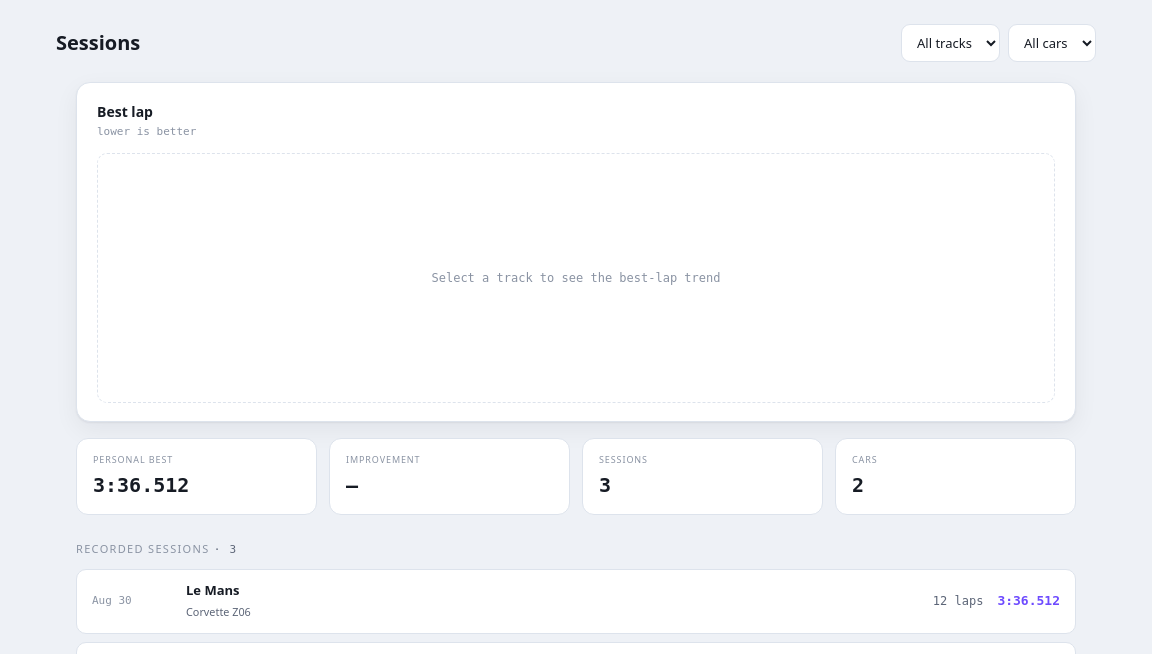
Test: SessionsScreen › renders the trend chart once a specific track is chosen
Select "Le Mans" in the dropdown named "track": [950, 43] box x1=901 y1=24 x2=1000 y2=62
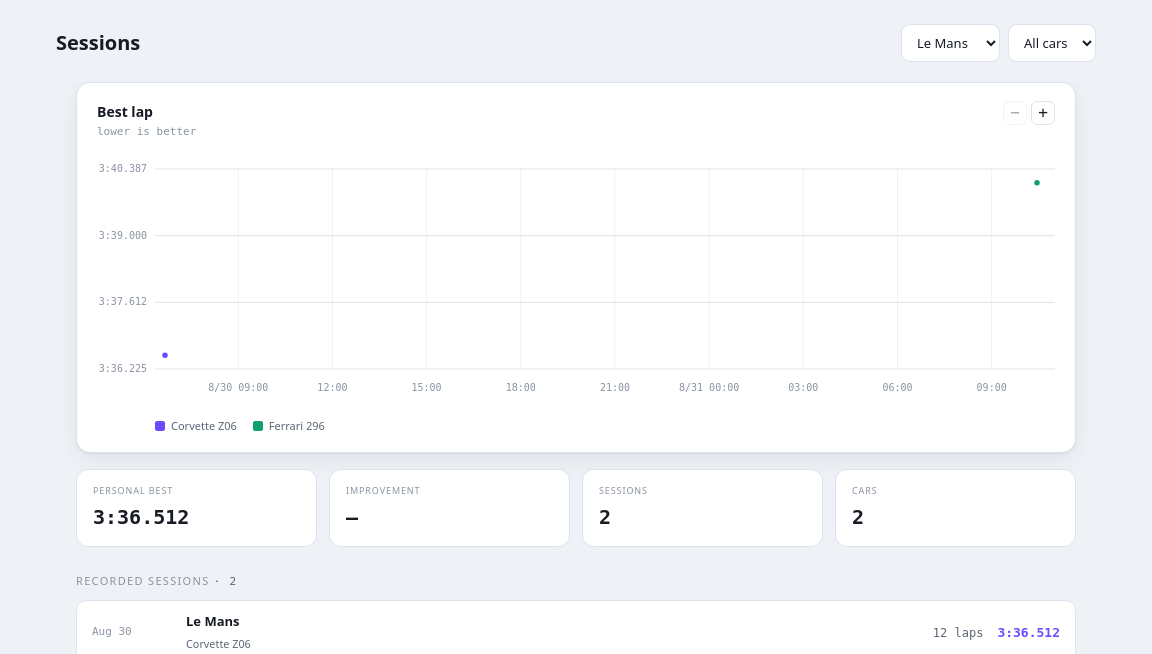
Now the picture named "Best lap trend" is shown, box x1=155 y1=152 x2=1055 y2=402
